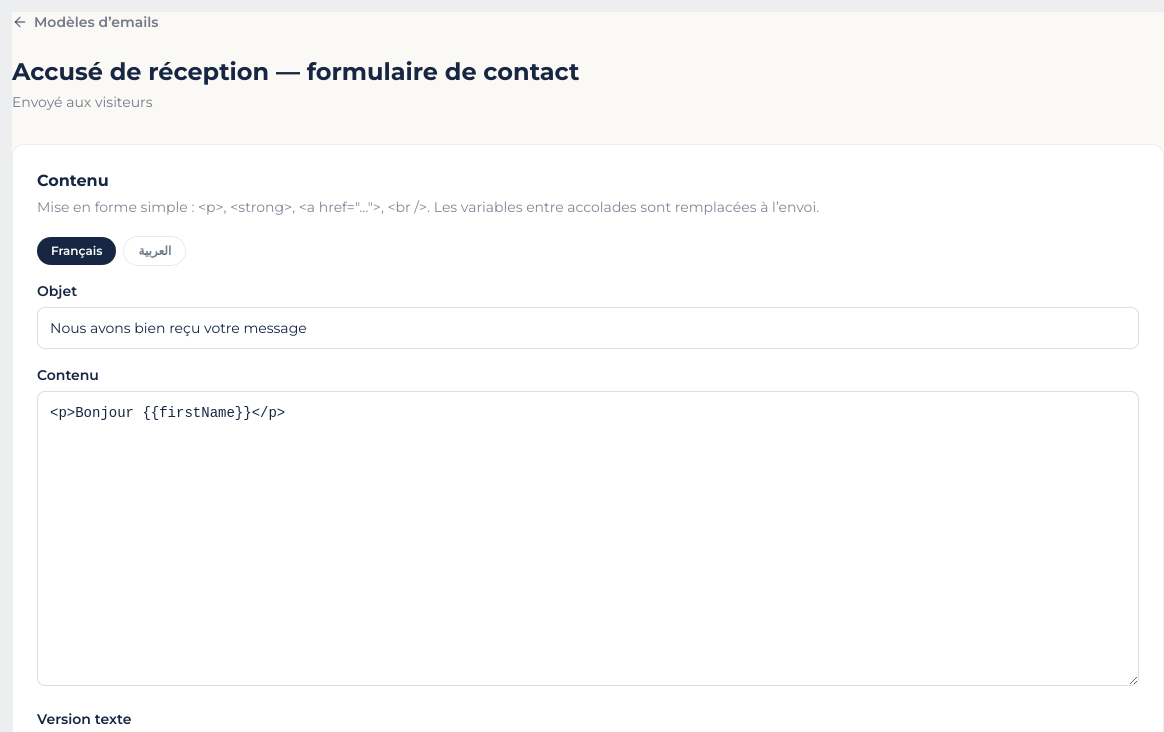
Scenario: Email templates editor › edits Arabic right to left, whatever the language of the back-office
Click the tab "العربية": (155, 251) [124, 237, 185, 265]
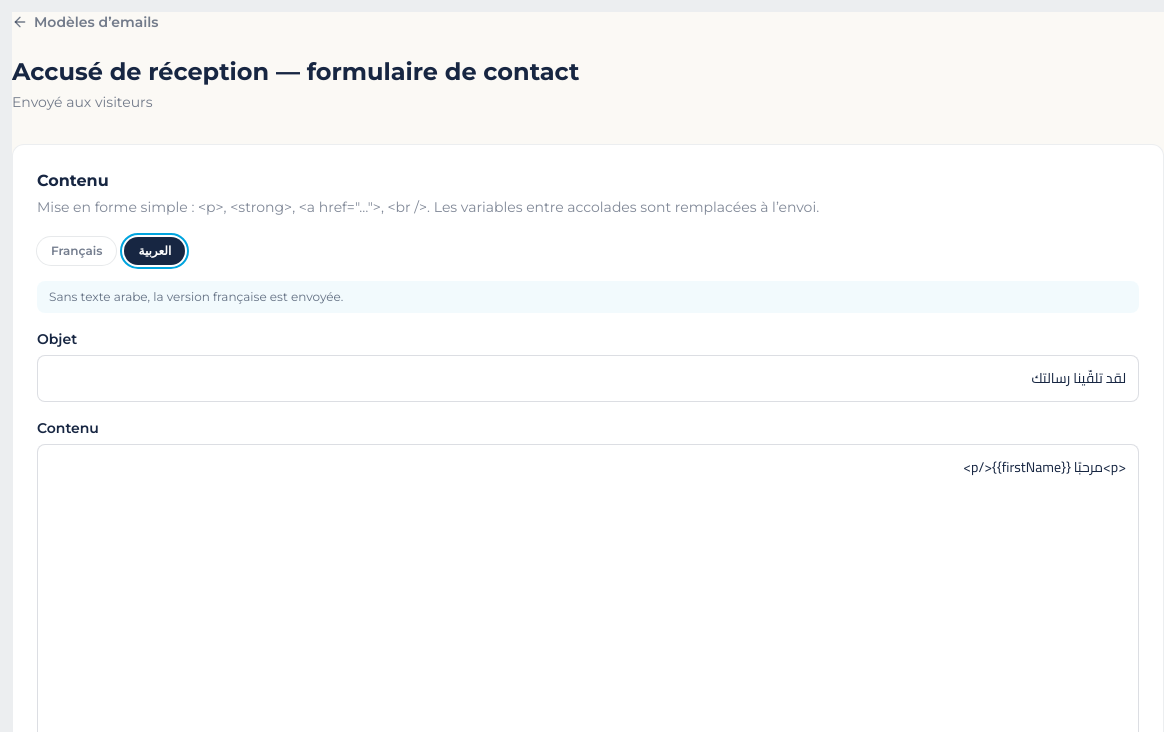
Result: the field labelled "Objet" holds "لقد تلقّينا رسالتك" at [37, 355, 1139, 402]
